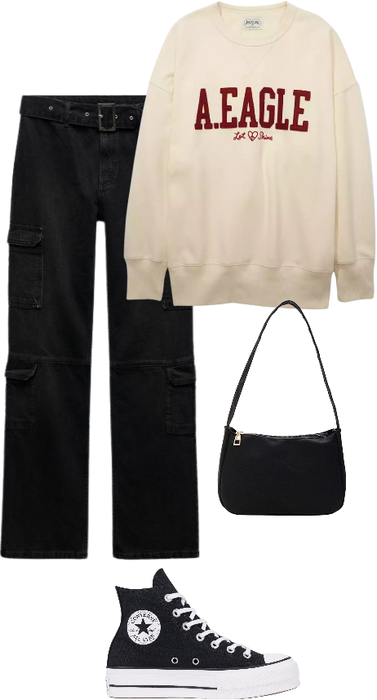джинсы: (7, 74, 209, 558)
кроссовки: (100, 583, 319, 700)
сумка: (209, 295, 358, 519)
толстовка: (122, 0, 377, 312)
